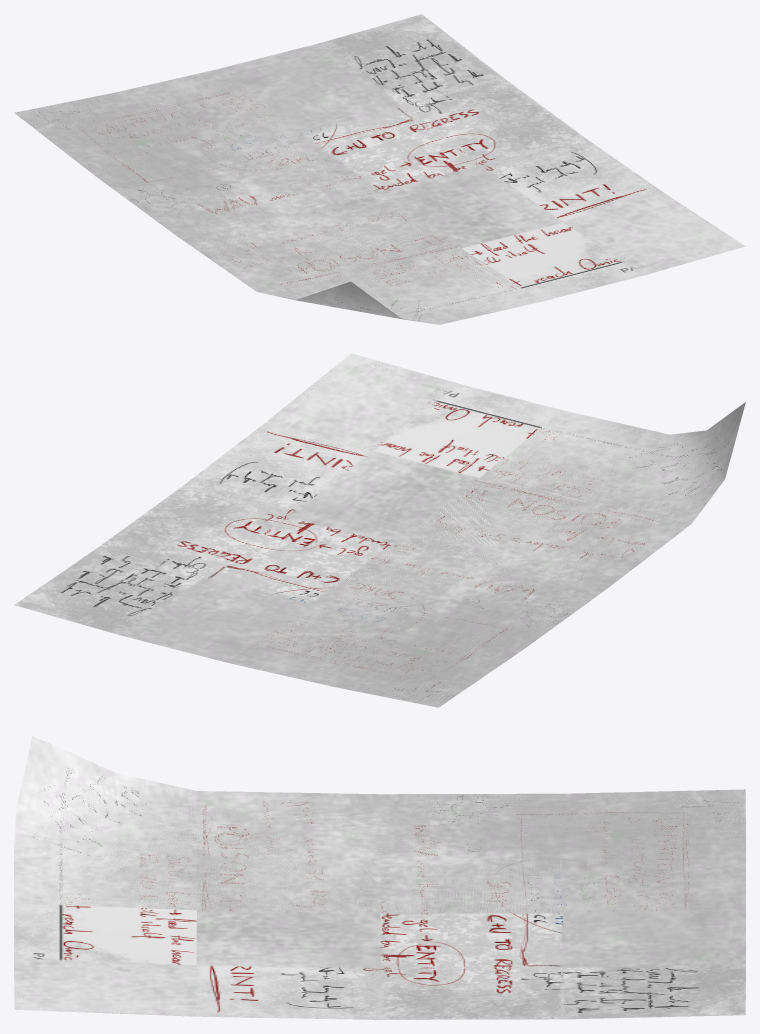
File: note_ross_scribbles.dae
The picture shows the model from 3 angles, top to bottom: view 1: azimuth 30°, elevation 25°; view 2: azimuth 150°, elevation 25°; view 3: azimuth 270°, elevation 25°; orthographic projection. The views are drawn at different scales.
Visible parts, largest first — view 1: polySurface3; view 2: polySurface3; view 3: polySurface3.
Part boxes in pixels (x1,y1,x2,y2): polySurface3: [14, 14, 745, 324]; polySurface3: [14, 353, 745, 707]; polySurface3: [14, 736, 745, 1019].
Size of the model in its own units: 0.2536 by 0.0404 by 0.3491.
